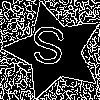S: (29, 26, 67, 73)
